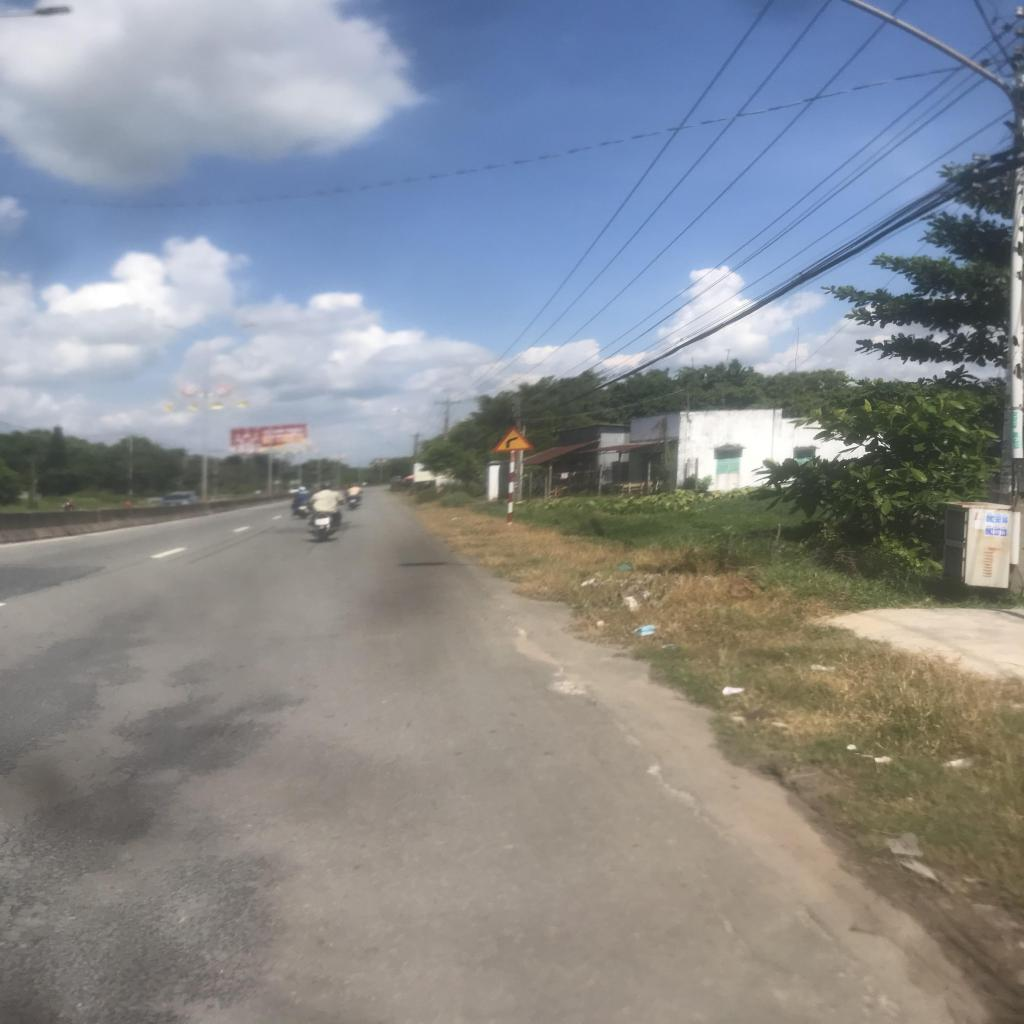cho_ngoat_nguy_hiem_ben_phai: (491, 425, 535, 452)
